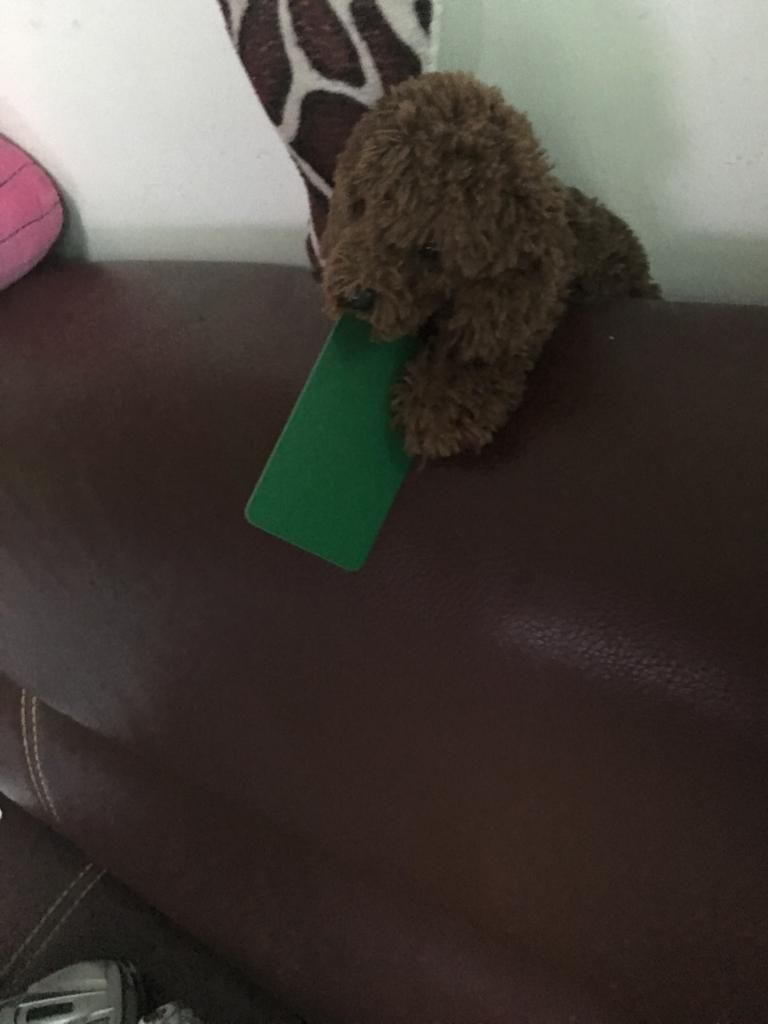green: (203, 279, 440, 599)
